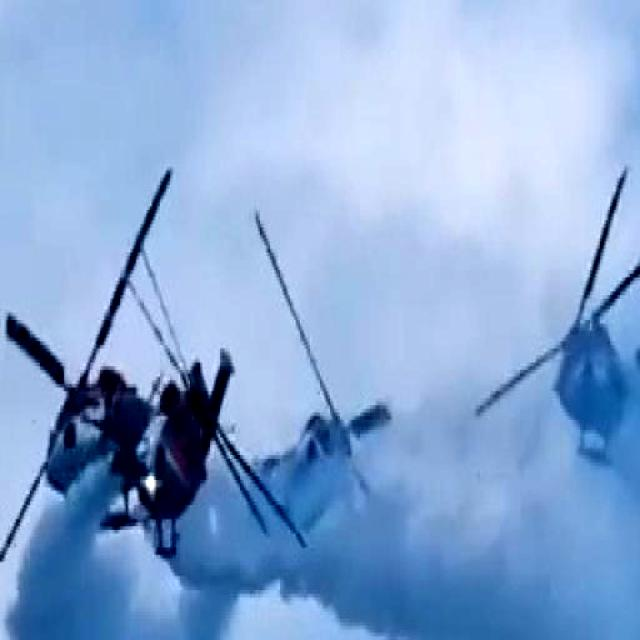drone: (518, 282, 640, 482)
